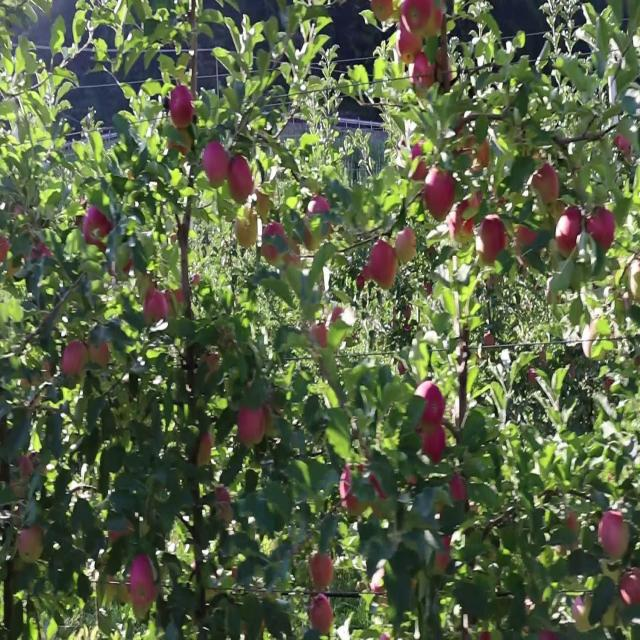apple: (236, 191, 272, 256), (456, 120, 491, 176), (396, 0, 424, 64), (424, 170, 456, 222), (600, 511, 631, 562), (132, 554, 159, 612), (452, 191, 483, 238), (228, 156, 256, 206), (372, 241, 399, 292), (416, 383, 447, 427), (556, 206, 583, 256), (480, 220, 508, 268), (588, 206, 616, 254), (84, 206, 113, 251), (204, 142, 231, 190), (240, 405, 268, 448), (532, 163, 560, 206), (420, 426, 448, 466), (172, 85, 196, 130), (412, 49, 436, 92), (308, 597, 335, 635), (260, 227, 287, 265), (340, 469, 363, 512), (20, 526, 45, 565), (312, 554, 336, 592), (64, 341, 88, 379), (236, 213, 260, 251), (436, 49, 455, 96), (368, 476, 388, 519), (420, 1, 445, 34), (436, 42, 455, 85), (620, 568, 640, 608), (168, 127, 193, 158), (528, 348, 548, 386), (396, 227, 417, 263), (412, 142, 430, 183), (572, 597, 592, 633), (252, 191, 272, 226), (88, 341, 112, 370), (20, 376, 42, 407), (516, 220, 538, 251), (144, 291, 164, 325), (436, 533, 452, 574), (108, 255, 134, 279), (196, 433, 213, 468), (164, 291, 185, 318), (372, 1, 395, 25), (356, 263, 375, 292), (584, 327, 599, 361), (312, 319, 329, 348), (516, 227, 538, 249), (112, 255, 134, 277), (308, 199, 332, 219), (452, 476, 468, 505), (616, 135, 633, 162), (284, 241, 301, 268), (216, 490, 232, 517), (108, 526, 134, 542), (372, 568, 386, 597), (604, 604, 619, 631), (632, 255, 640, 302), (20, 455, 35, 478), (204, 355, 221, 375), (216, 490, 232, 510), (36, 241, 52, 261), (120, 255, 134, 277), (568, 511, 580, 535), (172, 291, 185, 311), (4, 234, 11, 261), (604, 376, 614, 393), (400, 362, 407, 377)
